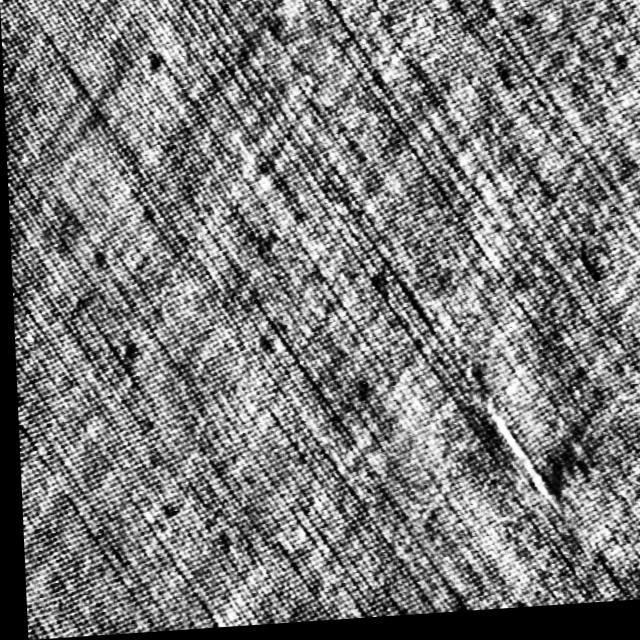Stitch: (479, 392, 571, 520)
